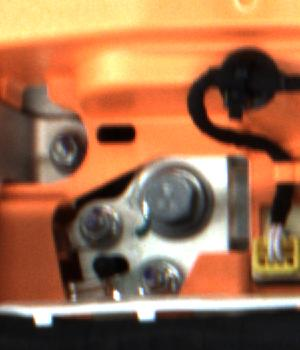nut_b: (139, 170, 220, 234)
screw_s: (76, 201, 115, 243), (140, 258, 180, 294), (43, 134, 79, 171)
